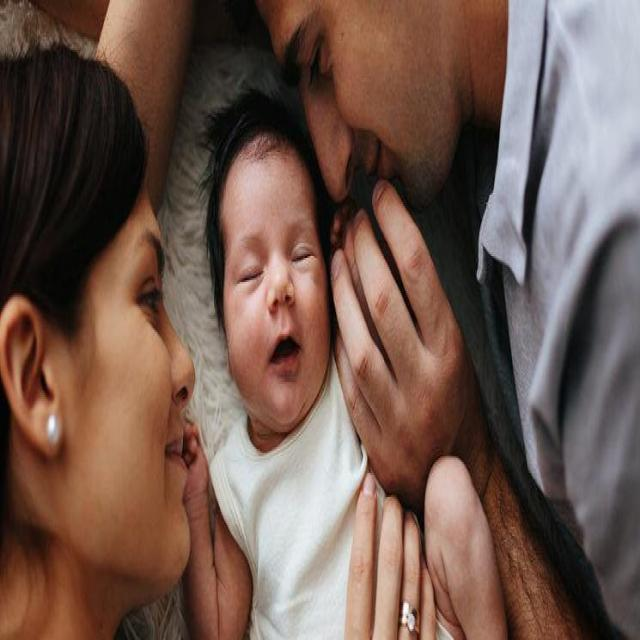child: (184, 111, 370, 639)
